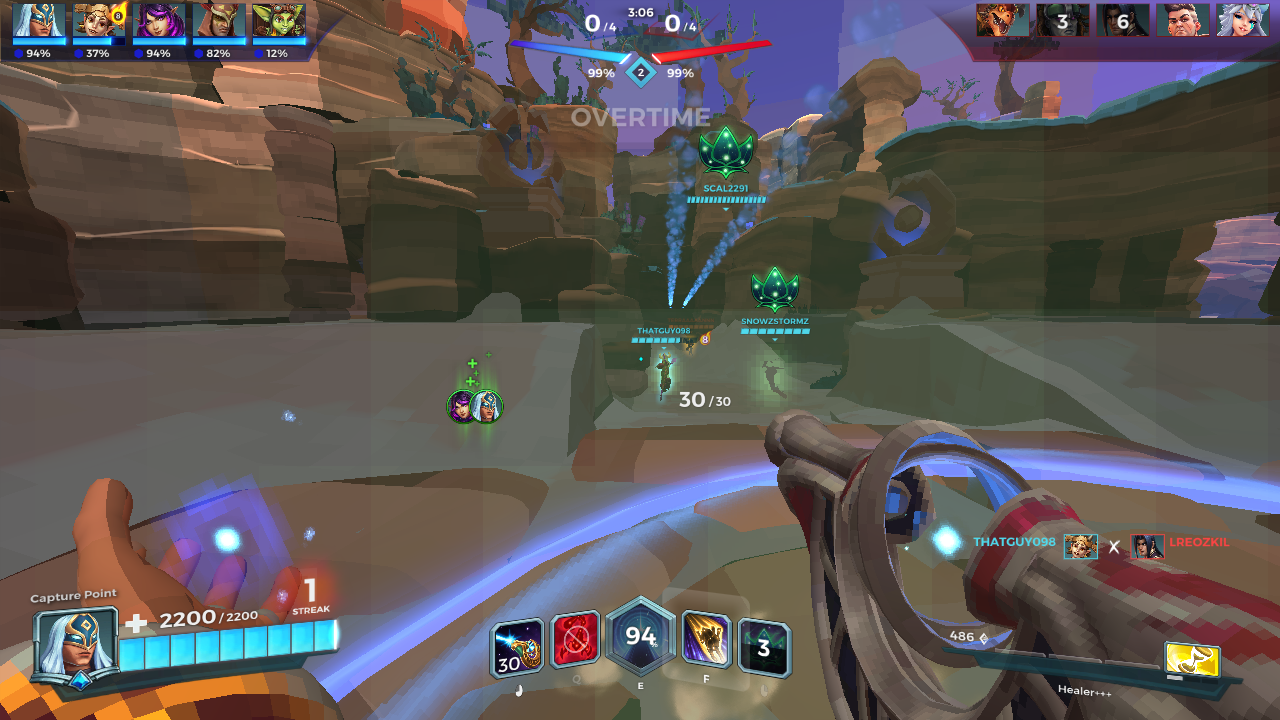model: (683, 335, 699, 356)
